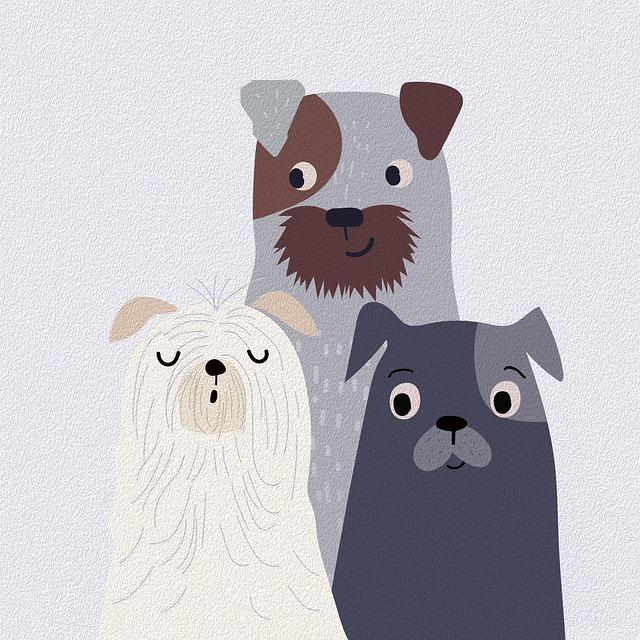Non_Gorille: (78, 31, 589, 640)
